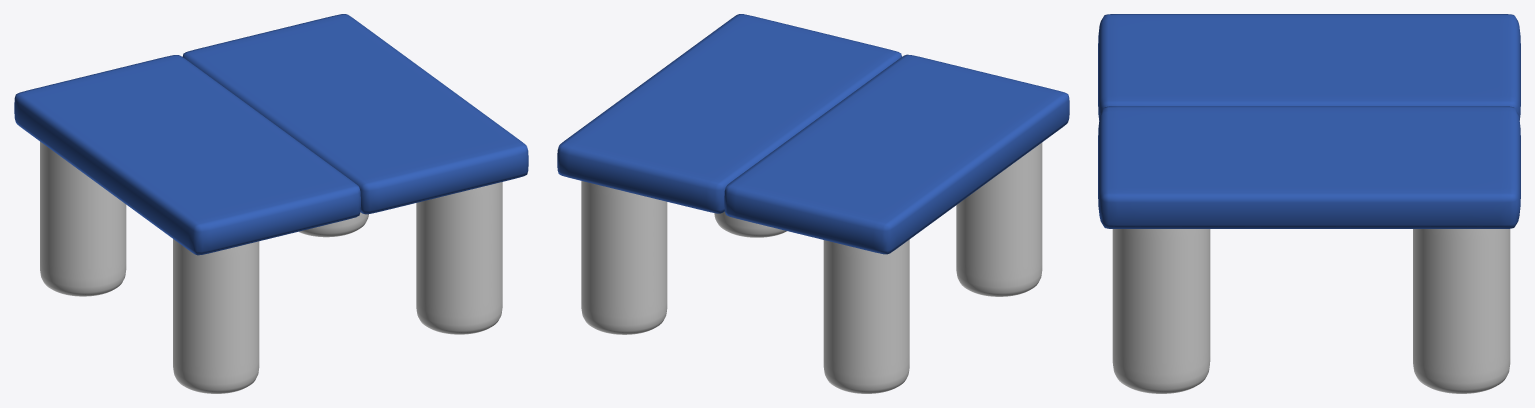
Rendered from Table.fbx.
3 renders of one model, left to right at view 1: azimuth 30°, elevation 25°; view 2: azimuth 150°, elevation 25°; view 3: azimuth 270°, elevation 25°, orthographic. The views are drawn at different scales.
Visible parts, largest first — view 1: Cube.011; view 2: Cube.011; view 3: Cube.011.
Boxes of the visible parts, bbox=[...] form: Cube.011: bbox=[14, 14, 528, 393]; Cube.011: bbox=[557, 14, 1069, 393]; Cube.011: bbox=[1098, 14, 1520, 393].
Size of the model in its own units: 139 by 72.16 by 134.
